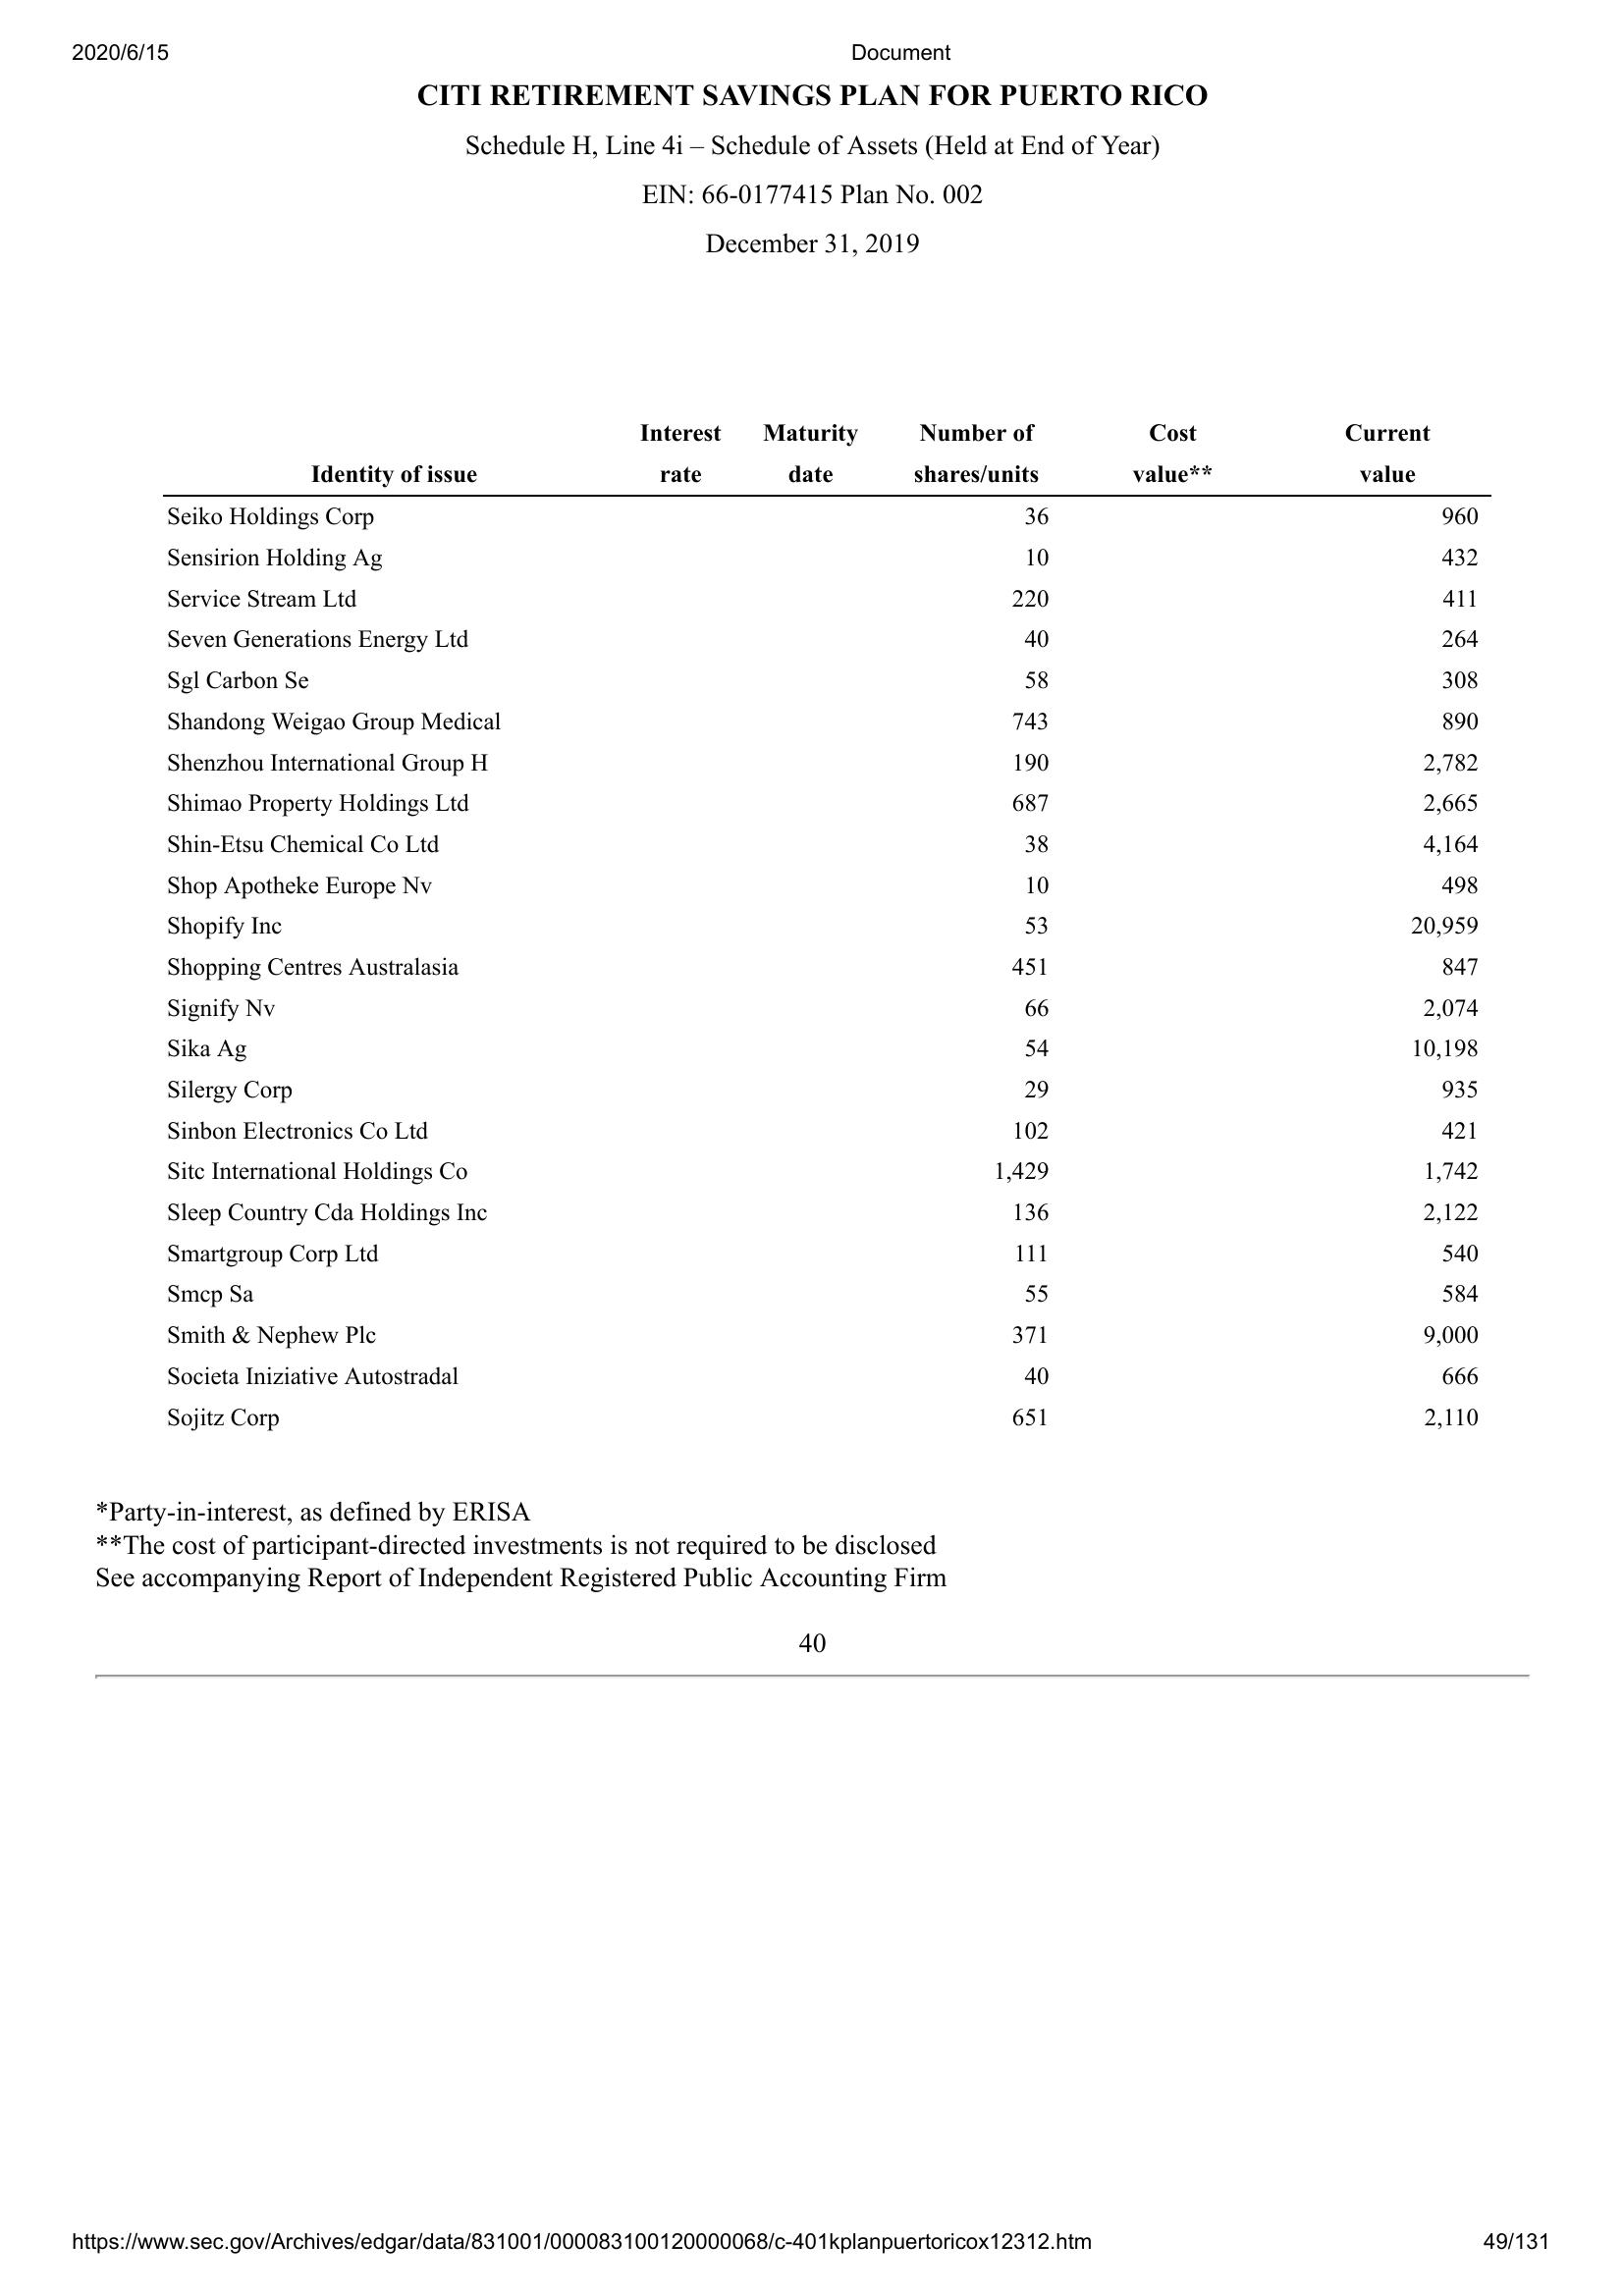table: (156, 420, 1486, 1450)
